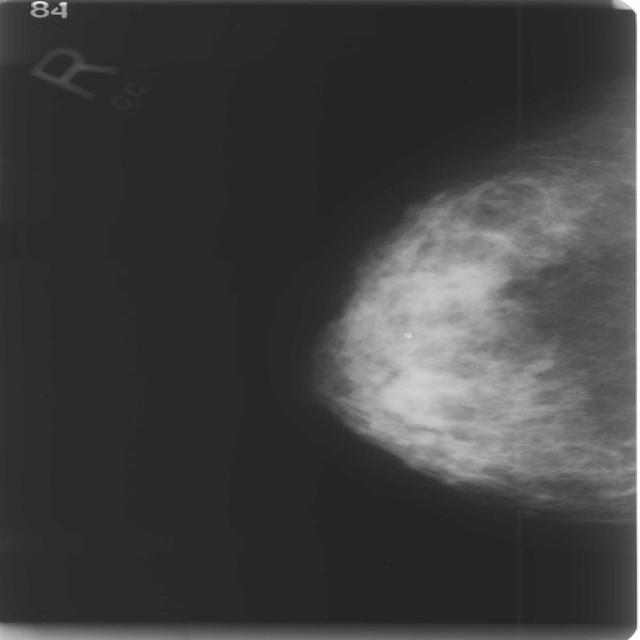tumour: (379, 367, 466, 429)
